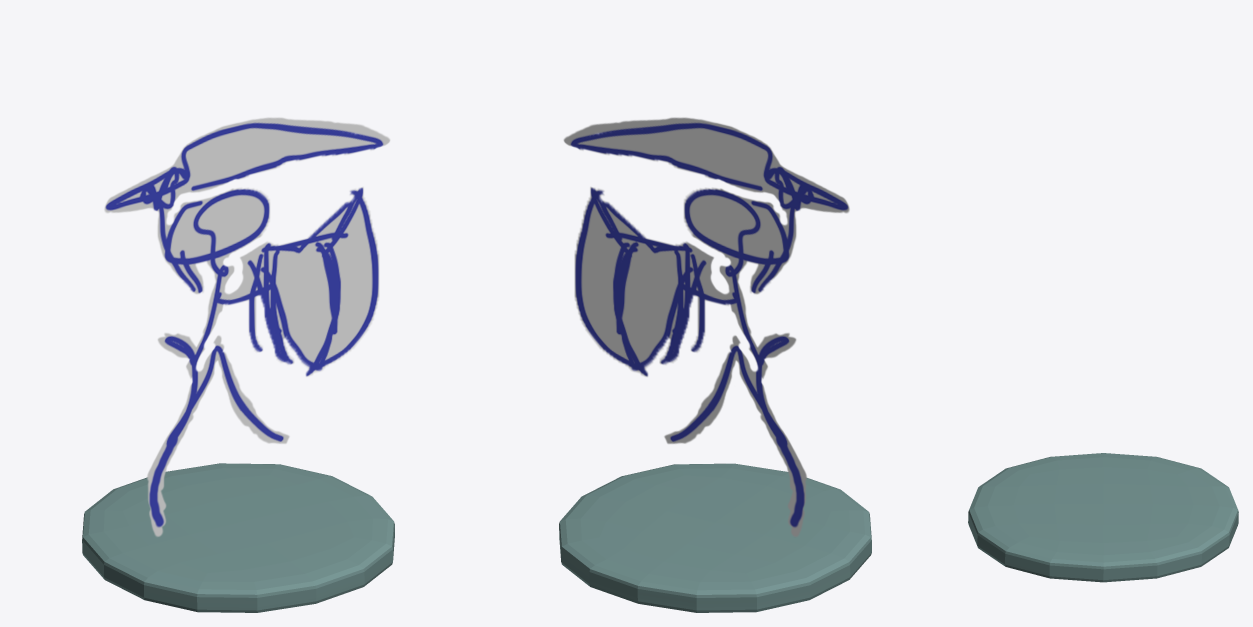
The model's file is player.glb.
3 renders of one model, left to right at view 1: azimuth 30°, elevation 25°; view 2: azimuth 150°, elevation 25°; view 3: azimuth 270°, elevation 25°, orthographic. The views are drawn at different scales.
Parts seen in each view (by area): view 1: player, Plane; view 2: player, Plane; view 3: Plane.
Part boxes in pixels (left/top/right/bottom): player: left=104, top=117, right=390, bottom=536; Plane: left=82, top=463, right=394, bottom=612; player: left=563, top=117, right=849, bottom=536; Plane: left=559, top=463, right=871, bottom=612; Plane: left=968, top=453, right=1238, bottom=582.
Size of the model in its own units: 1 by 1.03 by 0.6006.
Materials: 2 (1 with a texture image).
